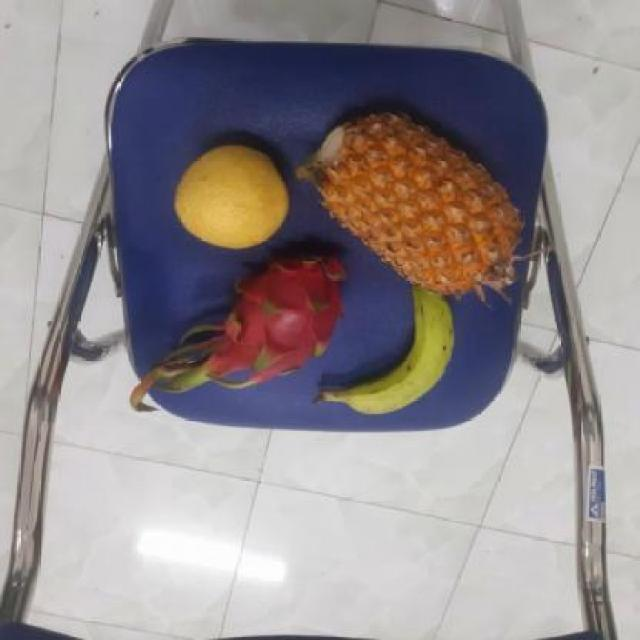banana: (328, 286, 462, 417)
dragon fruit: (206, 246, 352, 385)
pear: (172, 140, 296, 245)
pineapple: (304, 112, 524, 300)
